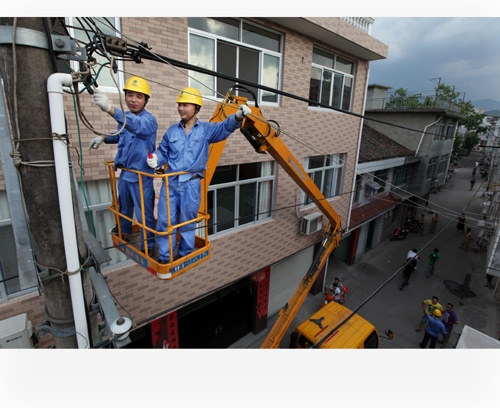none: (445, 301, 454, 311), (431, 295, 439, 305)
yellow: (120, 74, 154, 113), (174, 85, 204, 121), (431, 308, 442, 318)
